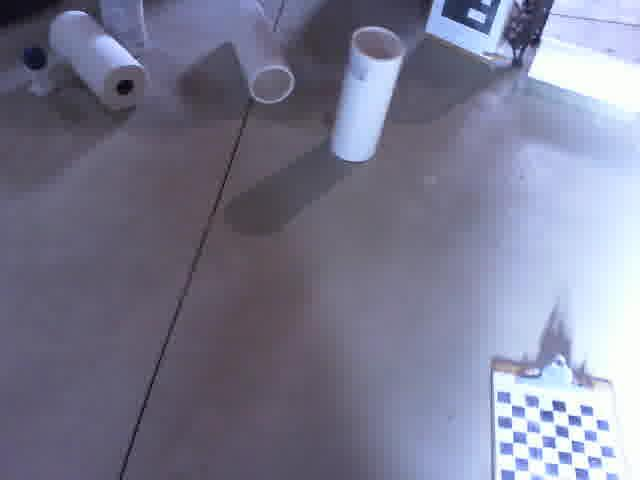coral: (332, 28, 404, 163), (49, 9, 145, 110), (221, 0, 297, 103)
